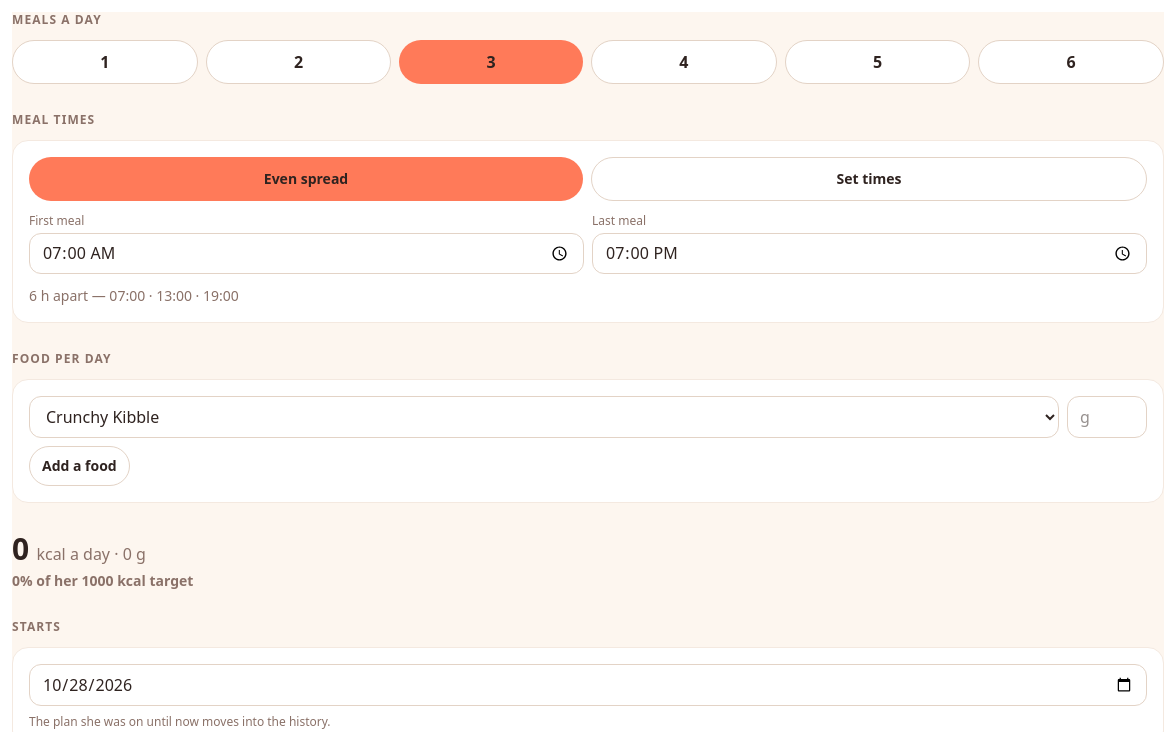
Scenario: PlanForm › totals the day and shows the derived serving
Type "300" into the field with test id "plan-item-grams-0" at coordinates (1107, 417), box 1067,396 -> 1147,438
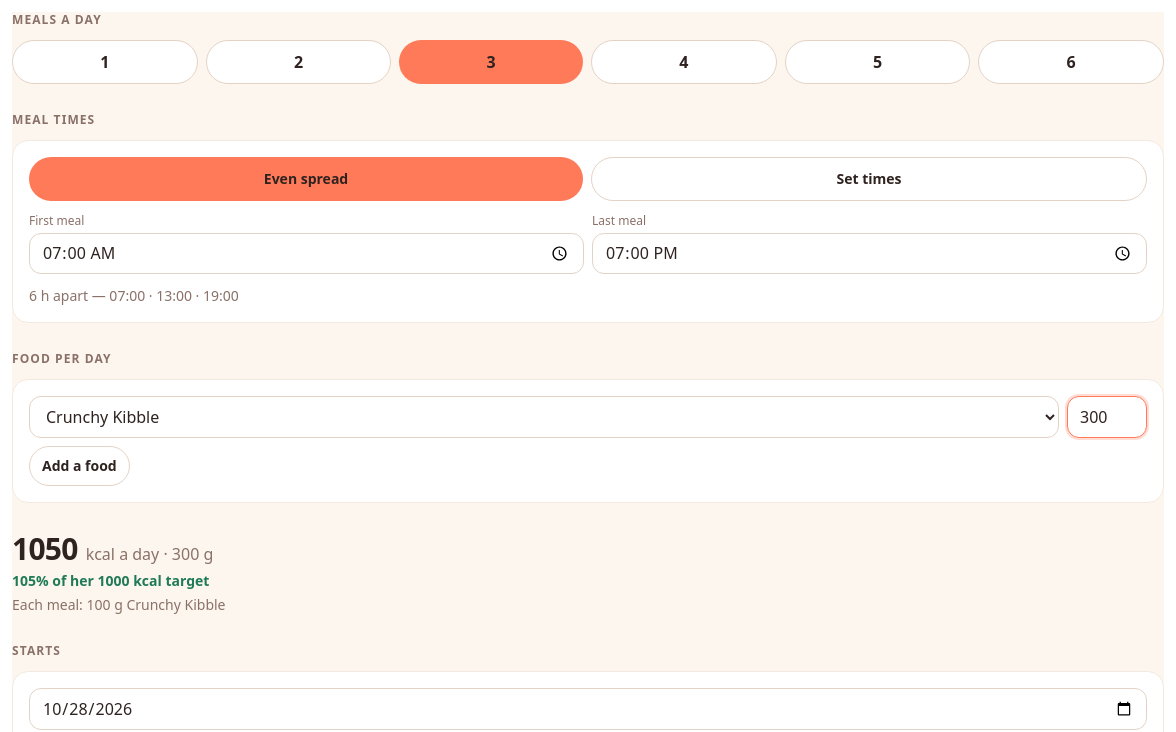
Result: the text with test id "plan-daily-kcal" reads "1050" at 12,528 -> 78,569
Result: the text with test id "plan-per-meal" reads "Each meal: 100 g Crunchy Kibble" at 12,595 -> 226,614
Result: the text with test id "plan-target-ratio" reads "105% of her 1000 kcal target" at 12,571 -> 209,590
